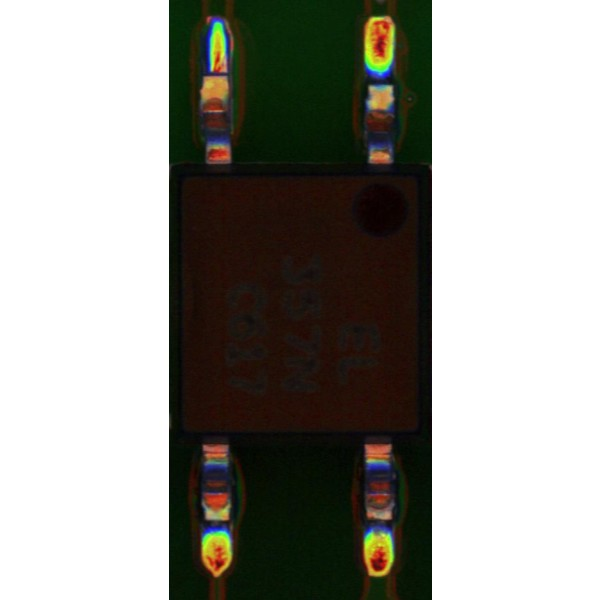Bad_podu: (209, 59, 225, 86)
